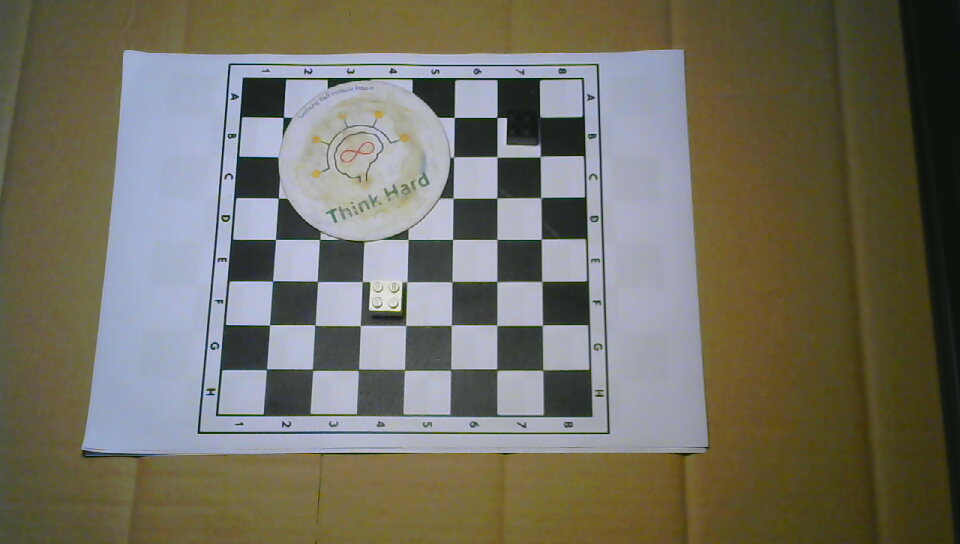bp: (504, 108, 542, 148)
wp: (366, 278, 404, 318)
